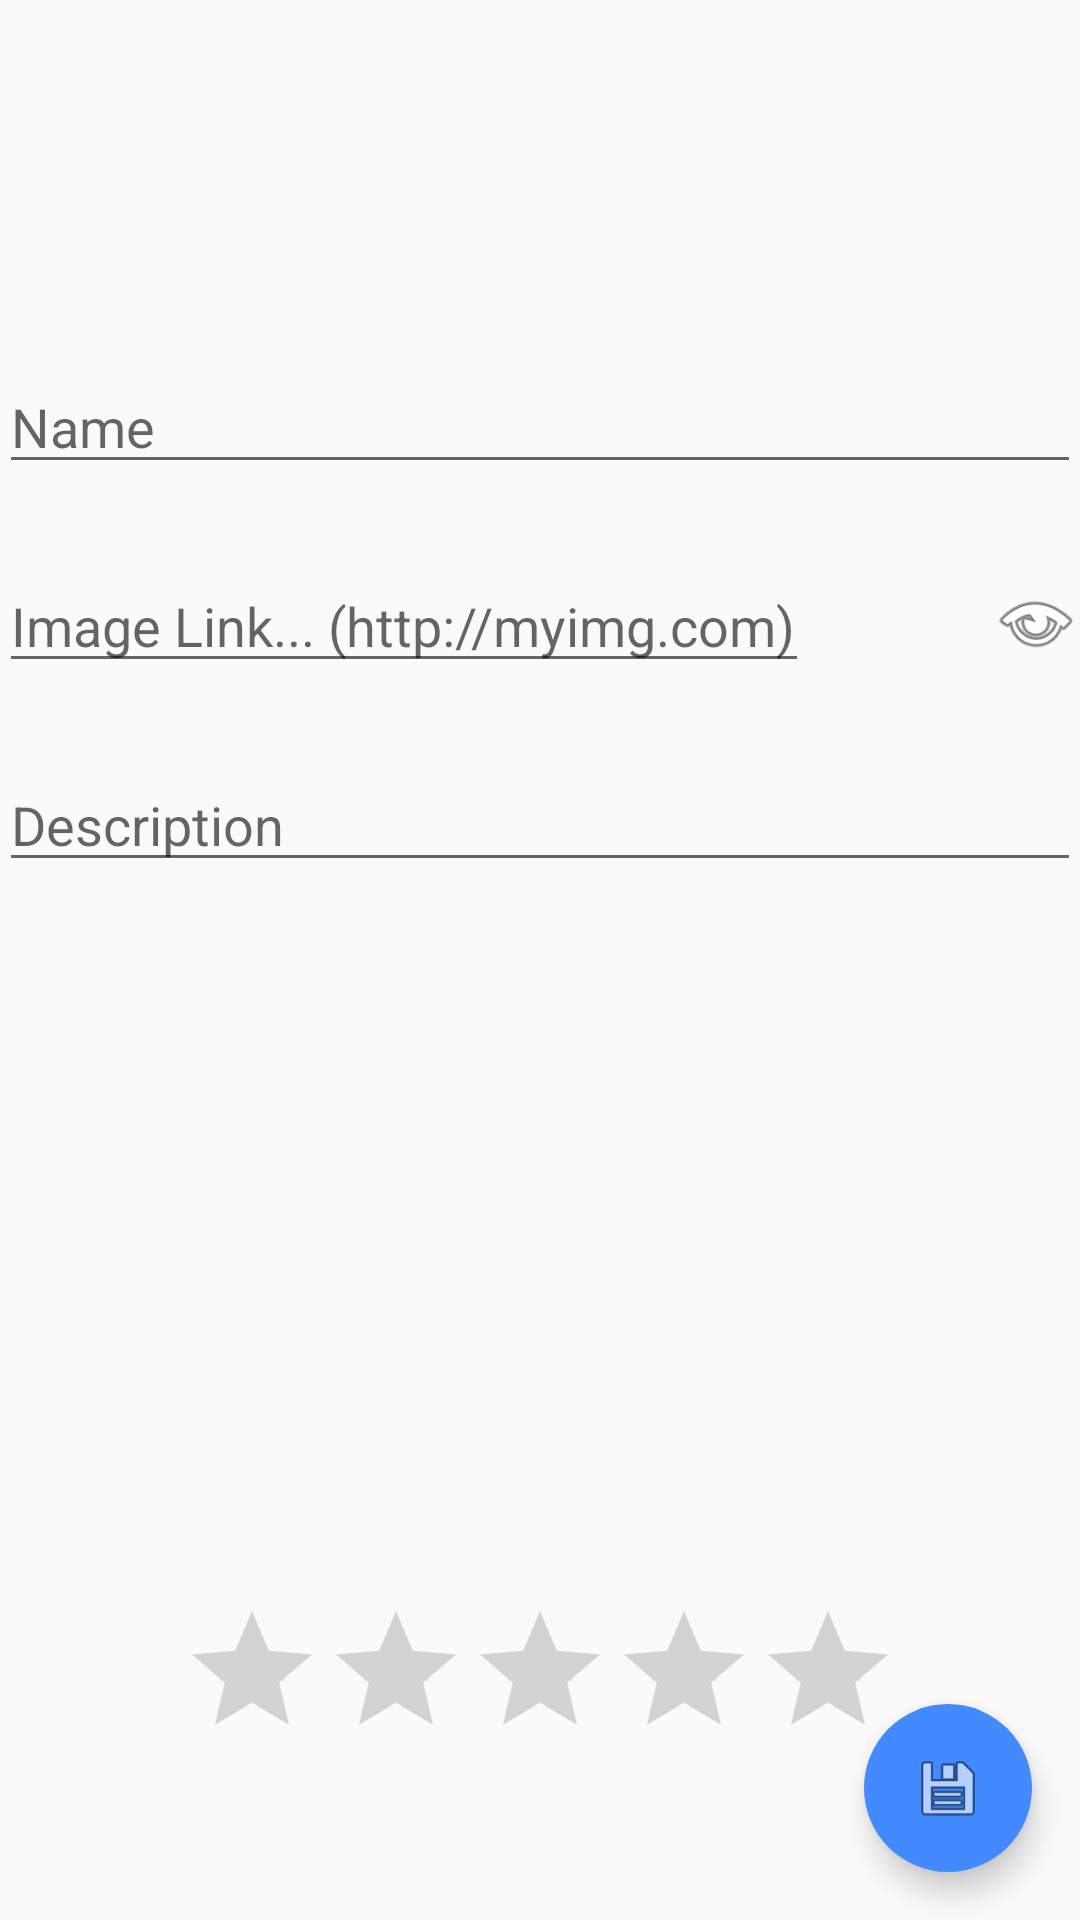

Icons on this 1080 × 1920 Android screen, each with its box as box(x1, y1, x2, y2):
save: box(864, 1704, 1032, 1872)
view: box(999, 601, 1073, 647)
